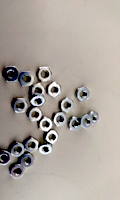nut: (37, 66, 53, 83), (3, 66, 19, 82), (24, 137, 39, 154), (46, 83, 62, 98), (10, 163, 25, 179), (20, 72, 35, 87), (10, 142, 25, 157), (12, 99, 28, 113), (76, 87, 90, 103), (61, 98, 75, 114), (31, 94, 46, 108), (28, 108, 42, 123), (21, 153, 35, 168), (40, 116, 53, 132), (45, 130, 59, 144), (80, 114, 93, 129), (32, 83, 45, 97), (54, 113, 67, 127), (39, 142, 53, 155), (68, 117, 81, 131), (0, 150, 11, 166), (90, 112, 99, 126)
